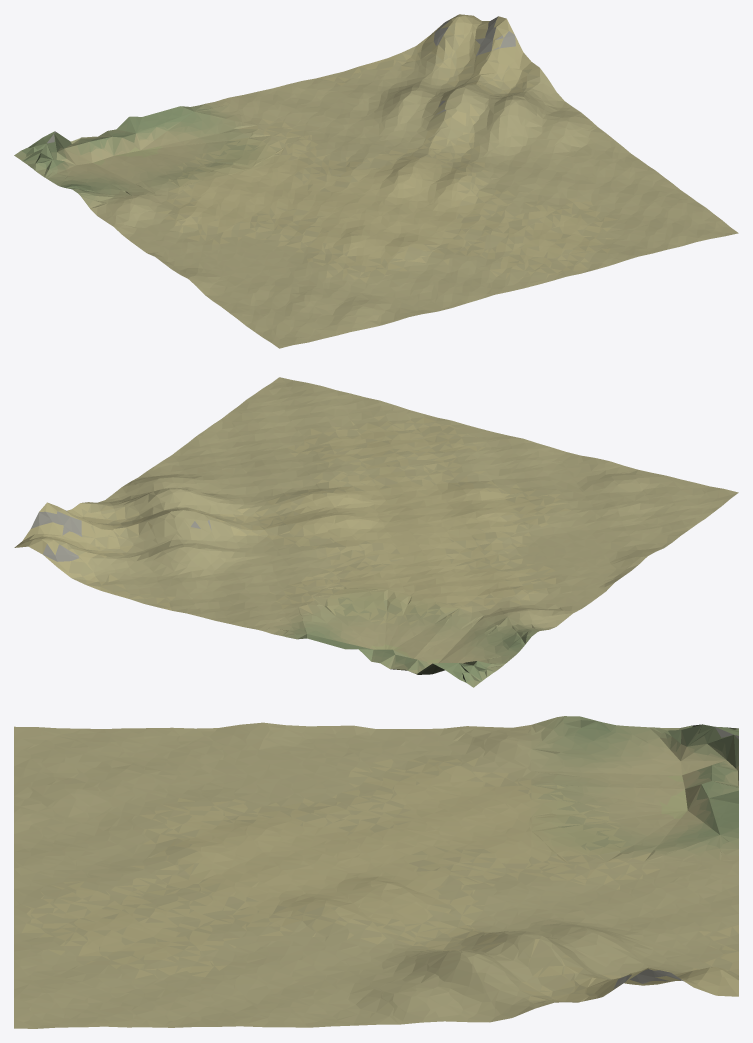
Rendered from Ground_0_0.glb.
3 renders of one model, top to bottom at view 1: azimuth 30°, elevation 25°; view 2: azimuth 150°, elevation 25°; view 3: azimuth 270°, elevation 25°, orthographic. The views are drawn at different scales.
Parts seen in each view (by area): view 1: Ground_0_0; view 2: Ground_0_0; view 3: Ground_0_0.
Part boxes in pixels (x1=…): Ground_0_0: x1=14, y1=14, x2=738, y2=348; Ground_0_0: x1=14, y1=377, x2=738, y2=687; Ground_0_0: x1=14, y1=716, x2=738, y2=1028.
Size of the model in its own units: 768 by 90.46 by 768.
